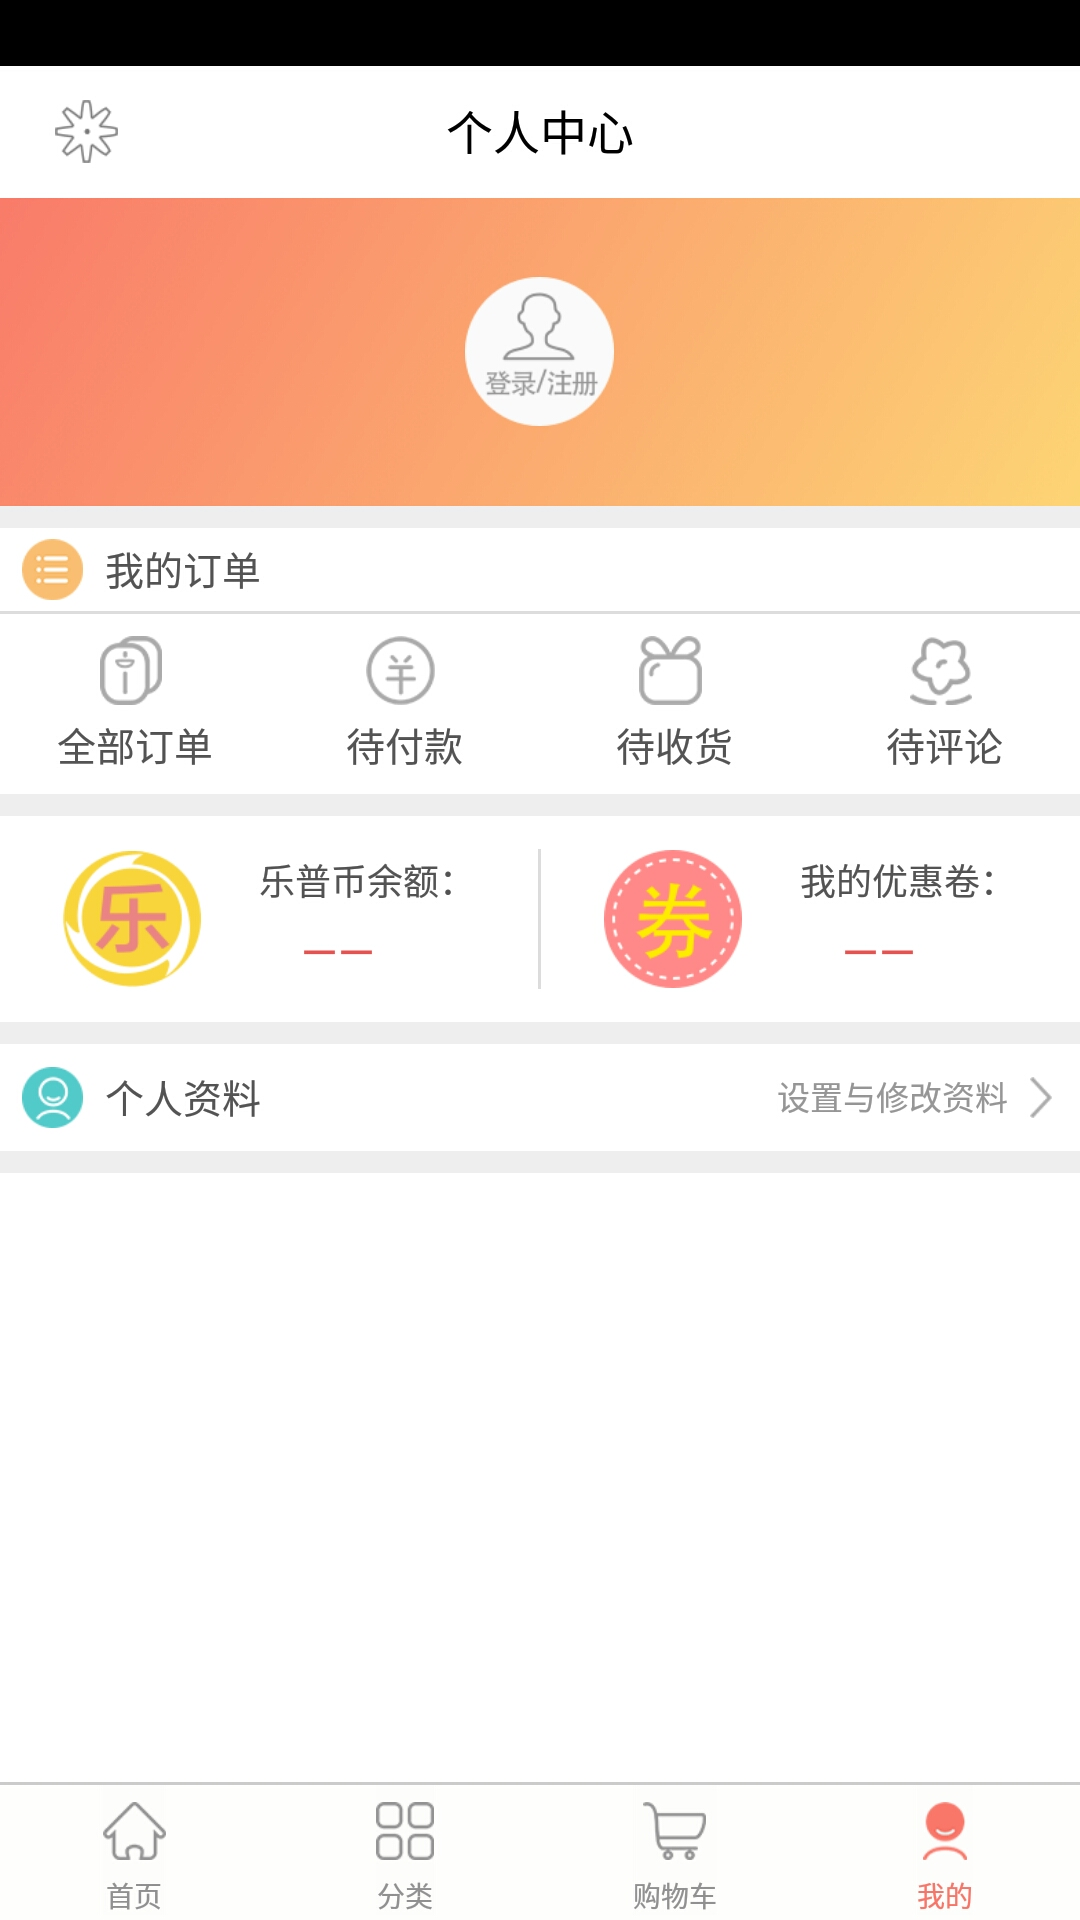imgbutton: (450, 272, 629, 429), (33, 91, 133, 181), (18, 535, 90, 615)
nav: (8, 616, 1080, 793), (7, 1787, 1073, 1916)
textview: (7, 1051, 1080, 1149), (21, 825, 525, 1006), (563, 831, 1052, 1006)
